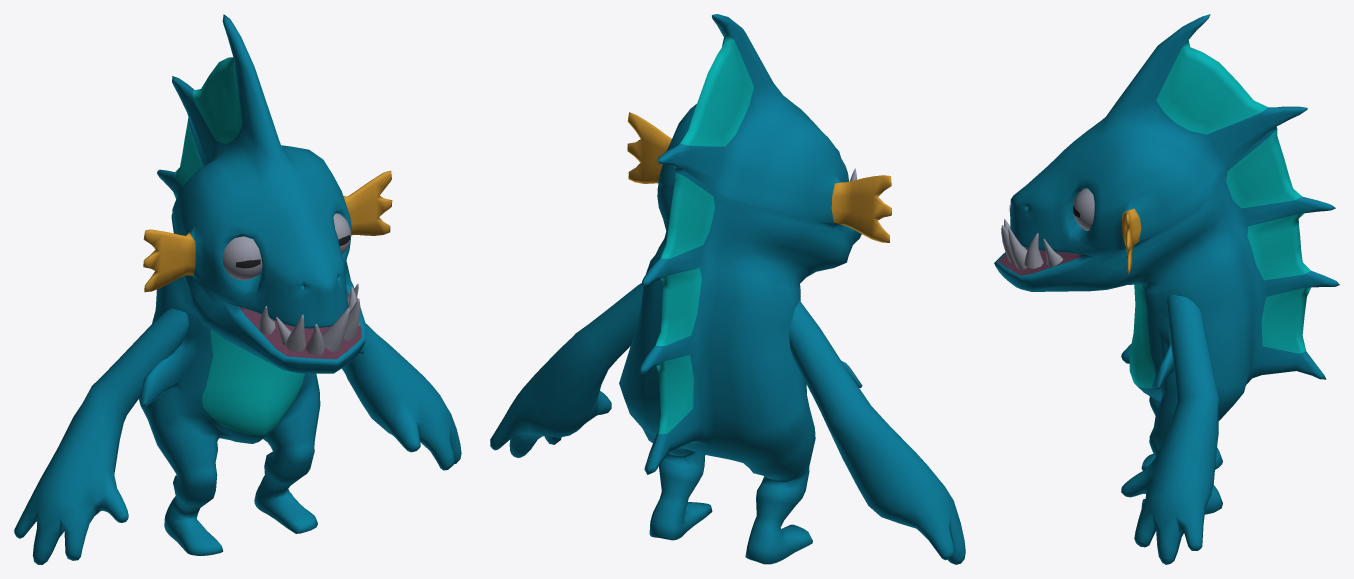
Rendered from Fish.obj.
3 views of the same model, side by side, from view 1: azimuth 30°, elevation 25°; view 2: azimuth 150°, elevation 25°; view 3: azimuth 270°, elevation 25° (orthographic). The views are drawn at different scales.
Visible parts, largest first — view 1: Fish_Sphere.026; view 2: Fish_Sphere.026; view 3: Fish_Sphere.026.
Boxes of the visible parts, x1=… form: Fish_Sphere.026: x1=14, y1=14, x2=461, y2=564; Fish_Sphere.026: x1=490, y1=14, x2=965, y2=564; Fish_Sphere.026: x1=994, y1=14, x2=1339, y2=564.
Size of the model in its own units: 3.23 by 3.58 by 2.36.
